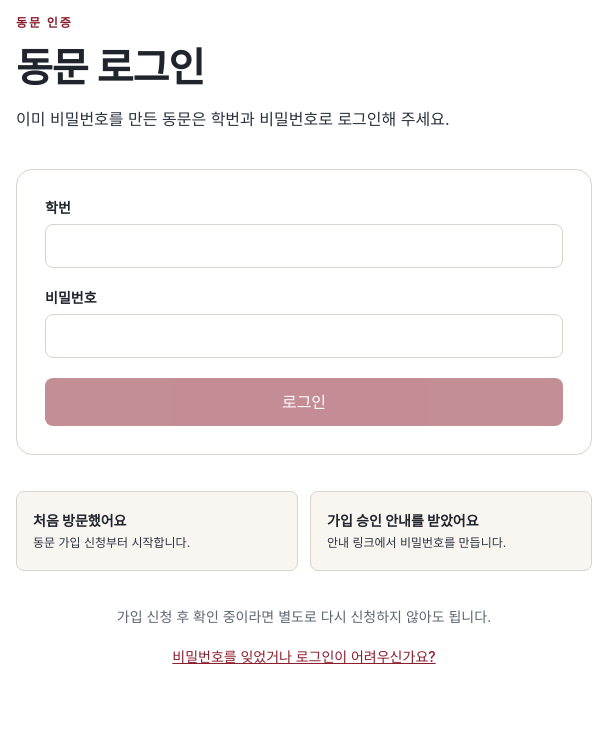
Test: LoginPage › 학번/비밀번호 불일치 시 기본 로그인 실패 메시지를 표시한다
The width and height of the screenshot is (609, 747).
Type "user001" into the field labelled "학번" at x=304, y=246, box [45,224,563,268]
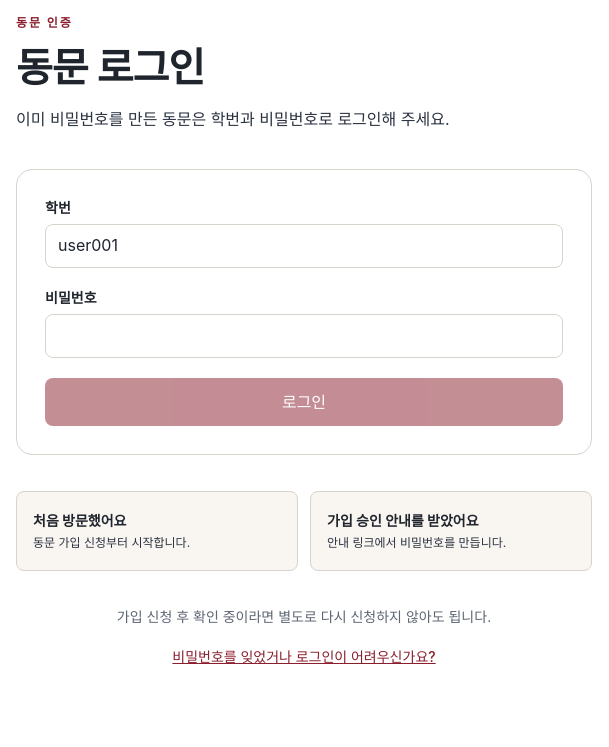
Type "wrong" into the password field labelled "비밀번호" at x=304, y=336, box [45,314,563,358]
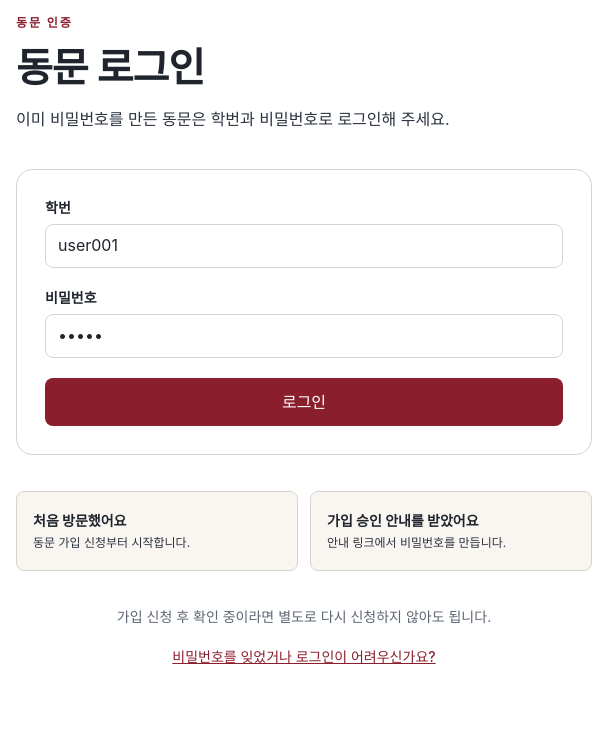
Click the button "로그인" at x=304, y=402, box [45,378,563,426]
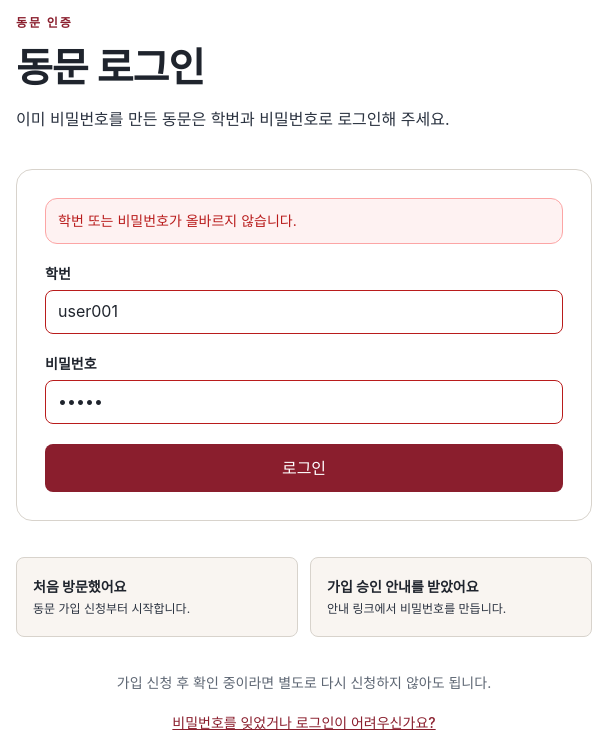
Now the message reads "학번 또는 비밀번호가 올바르지 않습니다.", box [58,212,297,229]
